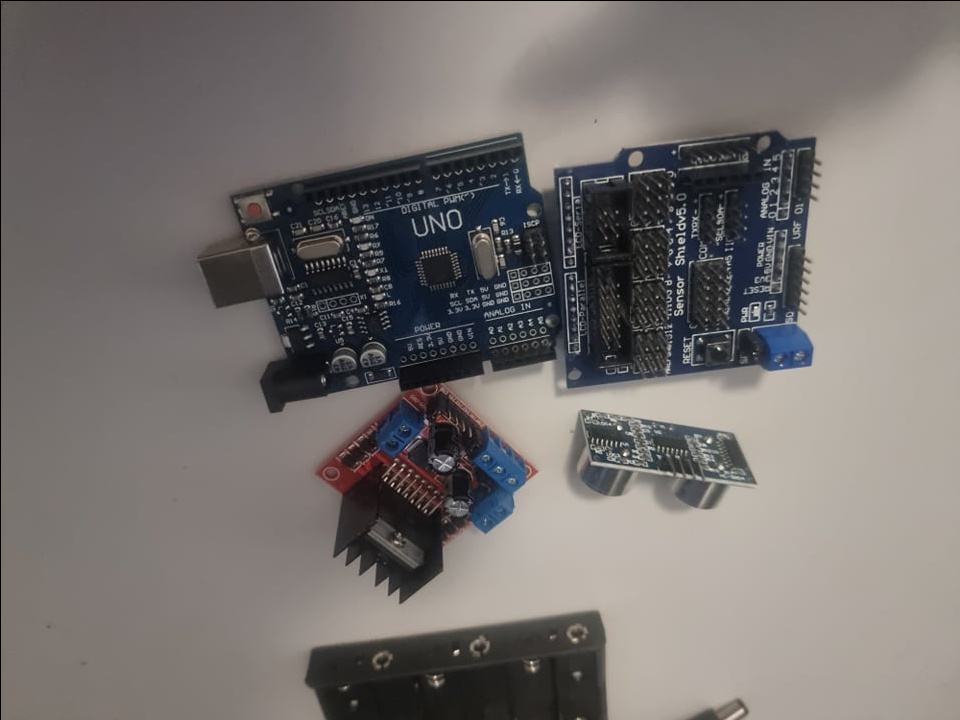5V EXPANSION: (561, 123, 820, 388)
BATTERY BOX: (295, 610, 635, 719)
MOTOR: (312, 385, 541, 603)
SENSOR: (575, 405, 759, 509)
UNO R3: (191, 124, 558, 417)
